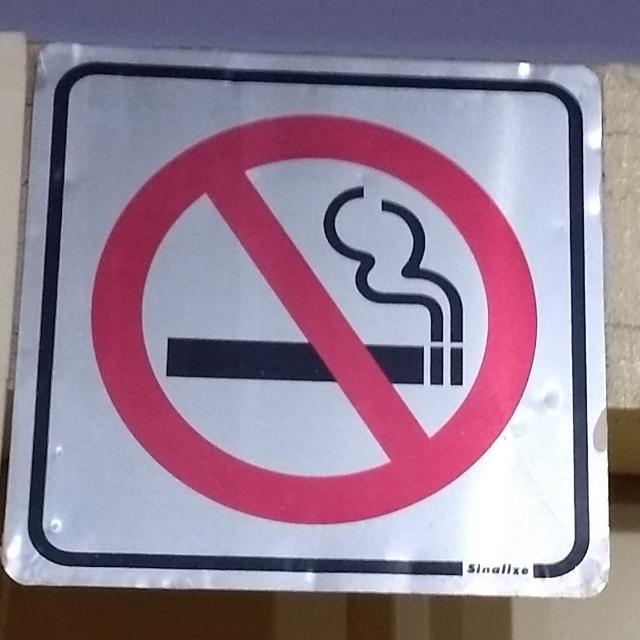cam hut thuoc: (92, 115, 536, 524)
